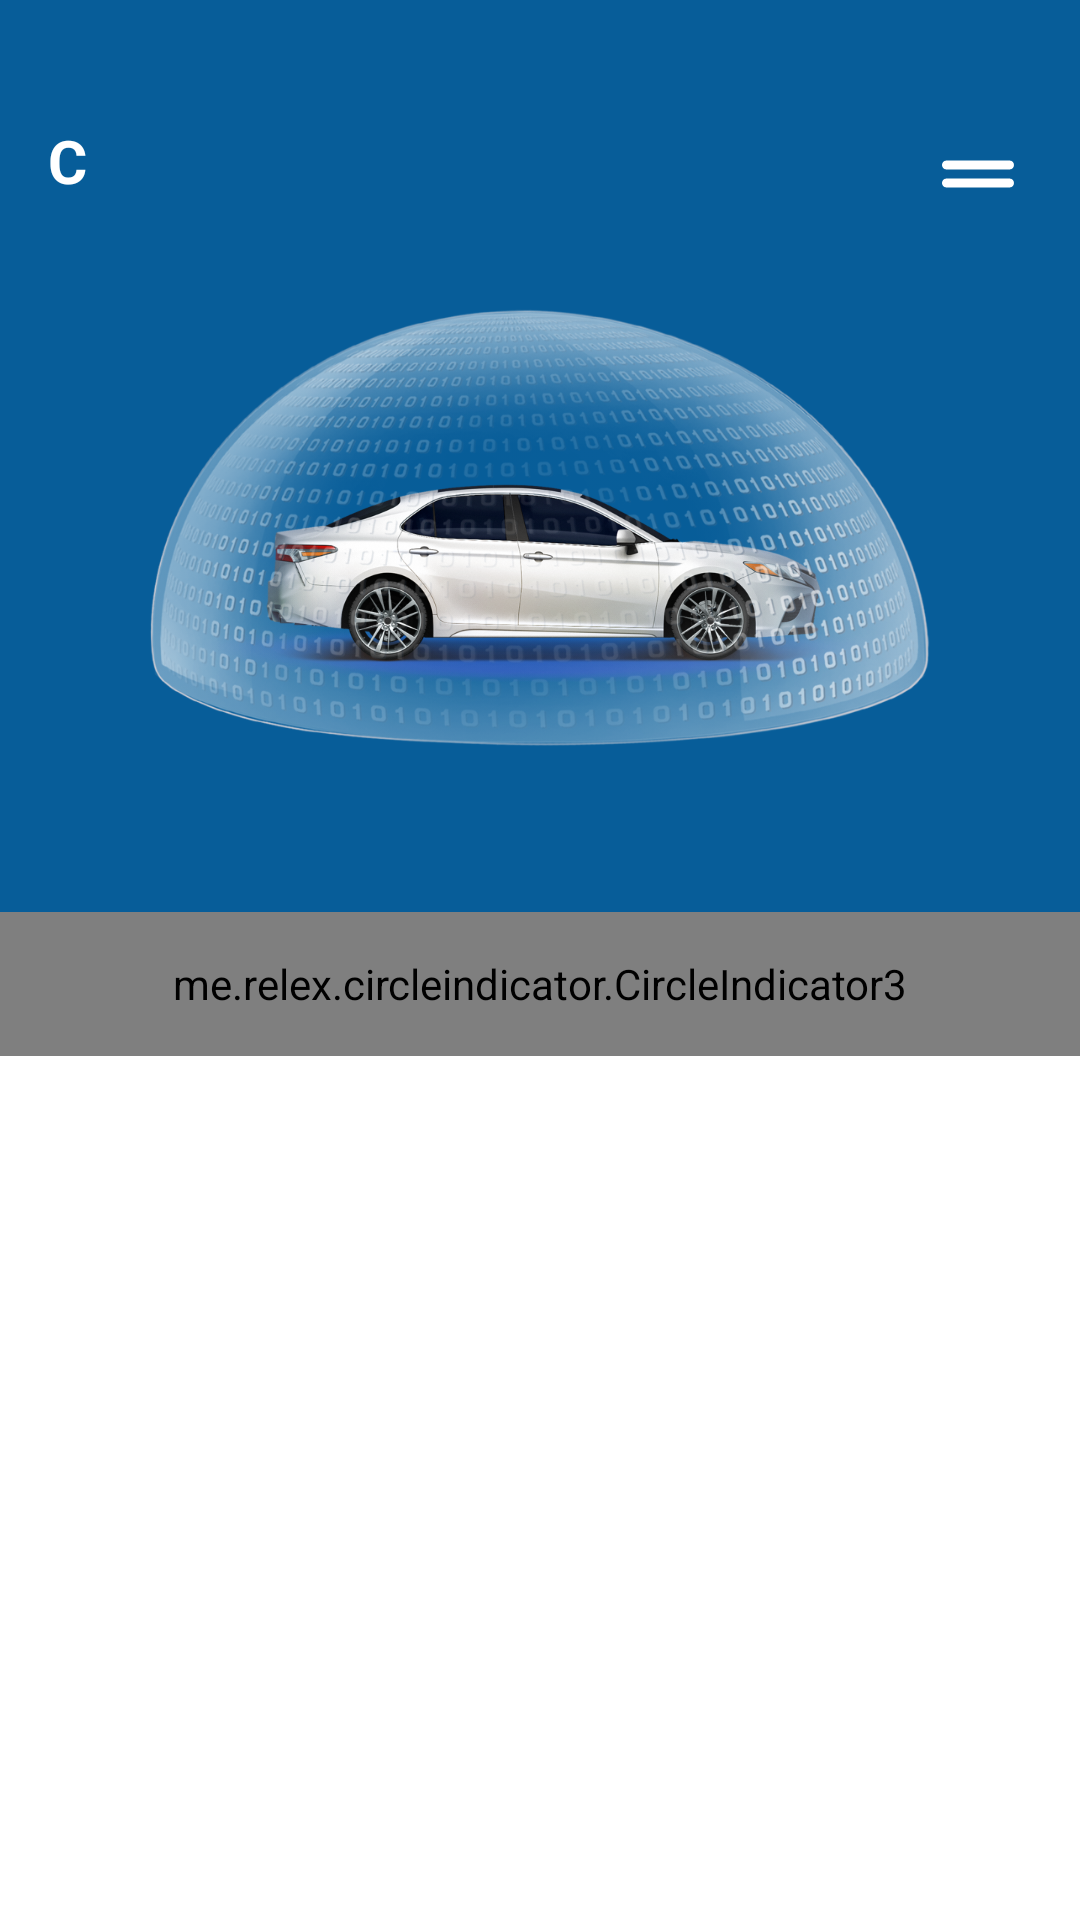

Icons on this 1080 x 1920 Android screen, each with the point to tap as (x,y):
drag handle: (978,174)
